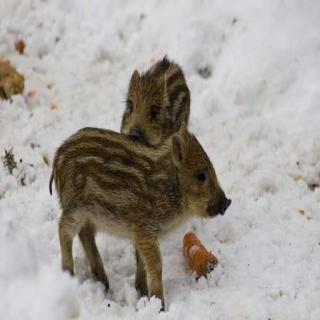Pig: (2, 122, 232, 285), (110, 42, 198, 154)
